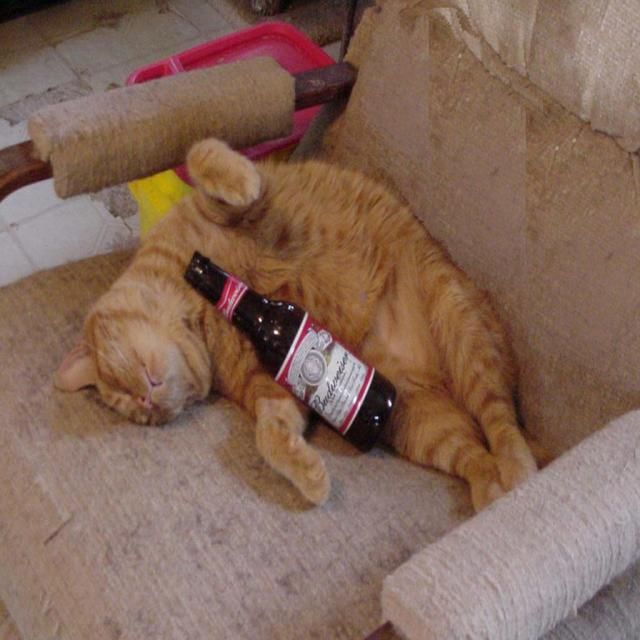Cat: (52, 138, 537, 518)
